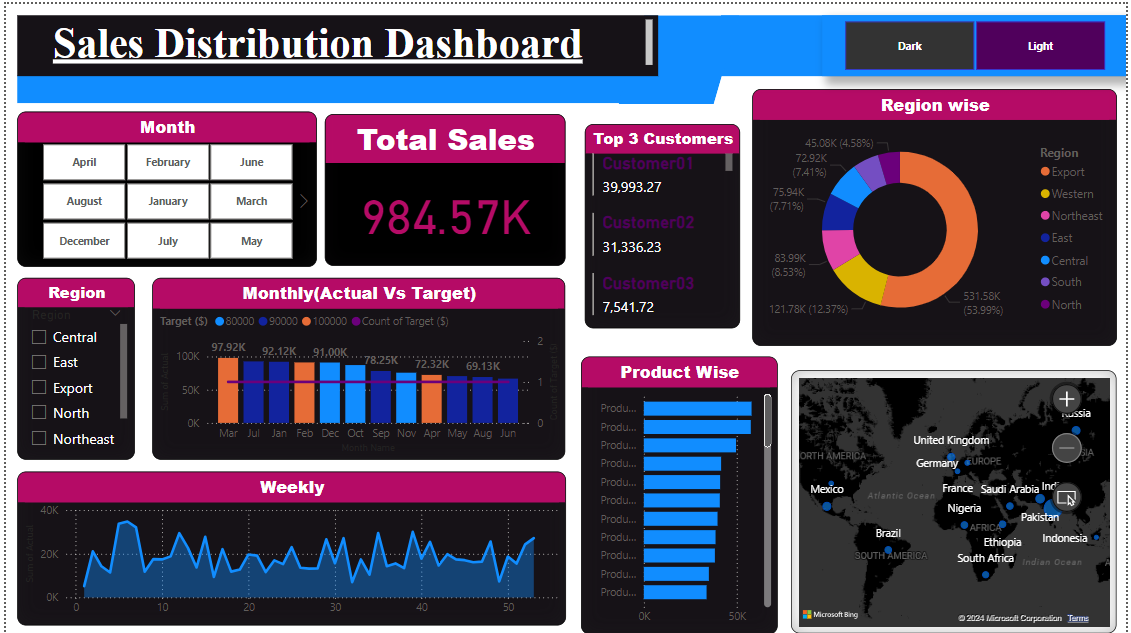

What the dashboard file says about the page in this screenshot:
{"tool":"powerbi","page":{"name":"Page 1","canvas":[1280,720],"ordinal":0},"visuals":[{"type":"slicer","title":"Month","fields":{"Values":["InputData.Month Name"]},"box":[12.2,122.3,342.4,177.3],"z":0},{"type":"card","title":"Total Sales","fields":{"Values":["Sum(InputData.Actual)"]},"box":[364.4,126,275.1,173.6],"z":1000},{"type":"slicer","title":"Region","fields":{"Values":["Country.Region"]},"box":[12.2,313,134.5,207.9],"z":2000},{"type":"lineStackedColumnComboChart","title":"Monthly(Actual Vs Target)","fields":{"Category":["TargetData.Month Name"],"Y":["Sum(InputData.Actual)"],"Series":["TargetData.Target ($)"],"Y2":["CountNonNull(TargetData.Target ($))"]},"box":[167.5,313,472,207.9],"z":3000},{"type":"areaChart","title":"Weekly","fields":{"Category":["InputData.Week of Year"],"Y":["Sum(InputData.Actual)"]},"box":[12.2,534.4,627.3,176.1],"z":4000},{"type":"multiRowCard","title":"Top 3 Customers","fields":{"Values":["Country.Customer Name","Sum(InputData.Actual)"]},"box":[661.1,136.7,177.8,233.3],"z":5000},{"type":"clusteredBarChart","title":"Product Wise","fields":{"Category":["InputData.PRODUCT"],"Y":["Sum(InputData.Actual)"]},"box":[656.7,402.2,224.4,317.8],"z":6000},{"type":"donutChart","title":"Region wise","fields":{"Category":["Country.Region"],"Y":["Sum(InputData.Actual)"]},"box":[852.3,97.8,417,293.5],"z":7000},{"type":"map","fields":{"Category":["Country.Country"],"Size":["Sum(InputData.Actual)"]},"box":[897,419,372,301],"z":8000},{"type":"shape","box":[12.2,81.9,772.8,31.8],"z":9000},{"type":"shape","box":[816.9,12.2,463.5,69.7],"z":10000},{"type":"shape","box":[700.7,12.2,138.2,101.5],"z":11000},{"type":"shape","box":[12.2,12.2,732.5,69.7],"z":12000},{"type":"textbox","box":[48.9,12.2,695.8,63.6],"z":13000},{"type":"slicer","fields":{"Values":["Theme.Theme"]},"box":[933,12.2,347.3,69.7],"z":14000}]}

Visuals, with their boxes in screenshot pixels (x1, y1, x2, y2), scaled from the page's 1280x720 canvas onto the 1131x633 screenshot:
"Month" slicer: [left=11, top=108, right=313, bottom=263]
"Total Sales" card: [left=322, top=111, right=565, bottom=263]
"Region" slicer: [left=11, top=275, right=130, bottom=458]
"Monthly(Actual Vs Target)" lineStackedColumnComboChart: [left=148, top=275, right=565, bottom=458]
"Weekly" areaChart: [left=11, top=470, right=565, bottom=625]
"Top 3 Customers" multiRowCard: [left=584, top=120, right=741, bottom=325]
"Product Wise" clusteredBarChart: [left=580, top=354, right=779, bottom=632]
"Region wise" donutChart: [left=753, top=86, right=1122, bottom=344]
map - Country.Country x Sum(InputData.Actual): [left=793, top=368, right=1121, bottom=632]
shape: [left=11, top=72, right=694, bottom=100]
shape: [left=722, top=11, right=1130, bottom=72]
shape: [left=619, top=11, right=741, bottom=100]
shape: [left=11, top=11, right=658, bottom=72]
textbox: [left=43, top=11, right=658, bottom=67]
slicer - Theme.Theme: [left=824, top=11, right=1130, bottom=72]
